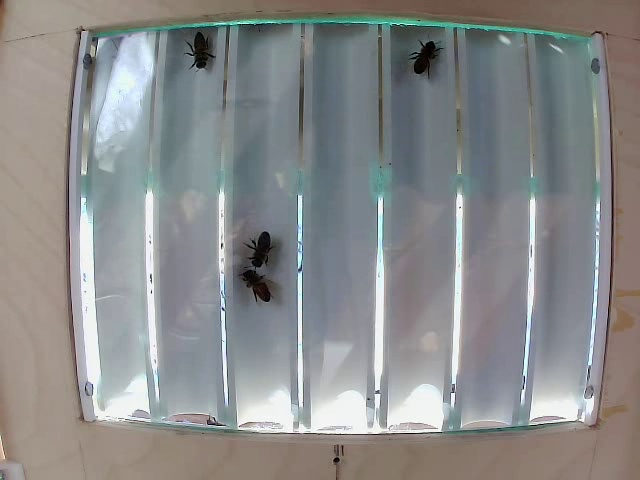bee: (238, 257, 283, 305), (413, 33, 456, 83), (188, 35, 230, 74), (243, 226, 280, 249)
